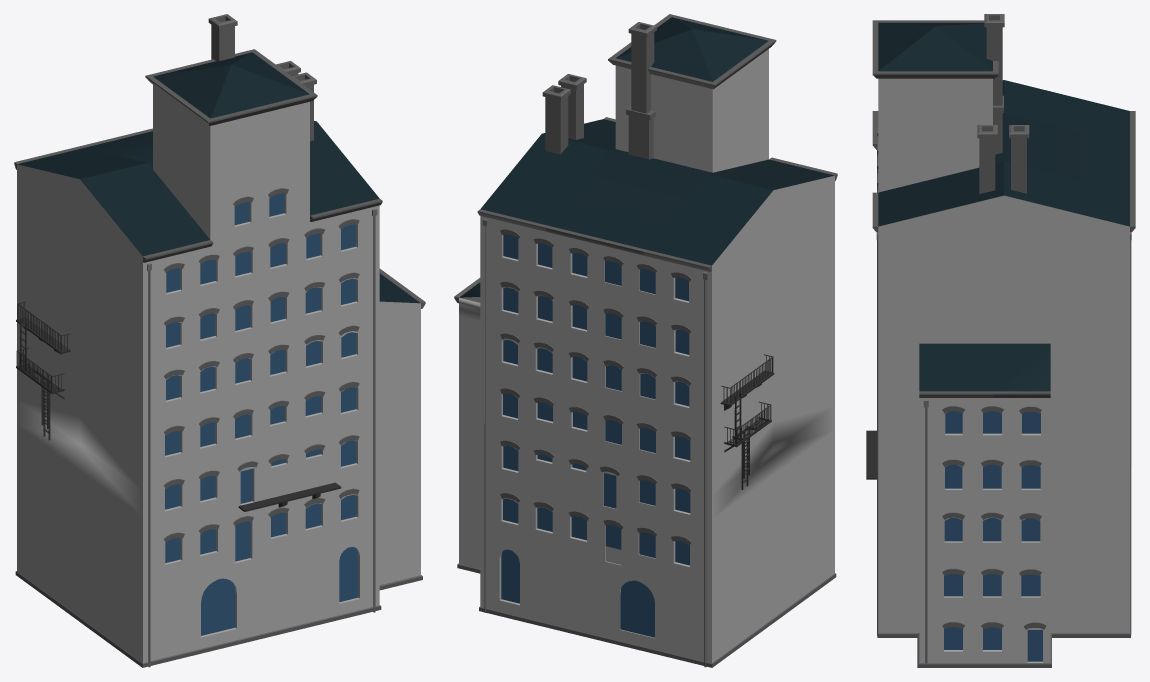
The model's file is Factory.fbx.
3 views of the same model, side by side, from view 1: azimuth 30°, elevation 25°; view 2: azimuth 150°, elevation 25°; view 3: azimuth 270°, elevation 25° (orthographic). The views are drawn at different scales.
Visible parts, largest first — view 1: Main, Roof, Front Window, Med Main, Front Window Panels, Roof Panel, Pipes, Stairs, Under, Chimneys, Balcony, Med Roof; view 2: Main, Roof, Back Windows, Med Main, Chimneys, Back Window Panels, Roof Panel, Stairs, Pipes, Under; view 3: Main, Med Main, Roof, Med Windows, Med Roof, Chimneys, Roof Panel, Med Window Panels, Pipes, Med Roof Panel, Med Under, Med Pipe (+2 smaller).
Part boxes in pixels (box(x1,y1,x2,y2)): Main: box(17, 85, 379, 662); Roof: box(17, 52, 379, 256); Front Window: box(165, 193, 358, 635); Med Main: box(379, 301, 420, 584); Front Window Panels: box(163, 188, 359, 542); Roof Panel: box(14, 49, 382, 262); Pipes: box(147, 208, 377, 667); Stairs: box(16, 301, 70, 440); Under: box(15, 571, 381, 667); Chimneys: box(208, 14, 316, 141); Balcony: box(238, 482, 341, 511); Med Roof: box(379, 273, 420, 303); Main: box(480, 49, 834, 662); Roof: box(480, 17, 834, 265); Back Windows: box(501, 234, 690, 637); Med Main: box(459, 297, 480, 568); Chimneys: box(542, 22, 656, 159); Back Window Panels: box(500, 229, 691, 545); Roof Panel: box(477, 14, 837, 271); Stairs: box(720, 354, 774, 489); Pipes: box(482, 219, 707, 667); Under: box(479, 573, 836, 667); Main: box(878, 78, 1129, 632); Med Main: box(919, 398, 1050, 662); Roof: box(878, 22, 1129, 226); Med Windows: box(944, 411, 1042, 661); Med Roof: box(919, 343, 1050, 391); Chimneys: box(977, 14, 1029, 193); Roof Panel: box(872, 20, 1135, 232); Med Window Panels: box(942, 406, 1046, 629); Pipes: box(876, 150, 1131, 635); Med Roof Panel: box(919, 391, 1050, 397); Med Under: box(917, 633, 1051, 667); Med Pipe: box(923, 399, 928, 663).
Bounding box in the file's own units: 1887 × 3261 × 1389.
